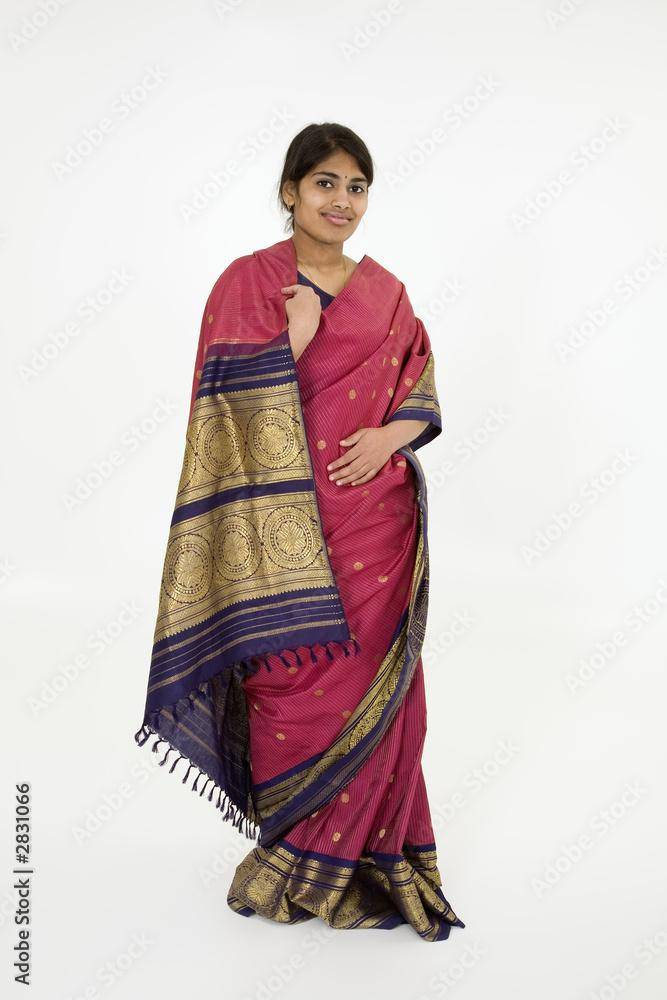Human: (148, 121, 568, 943)
